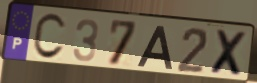2: (176, 26, 211, 76)
3: (72, 18, 100, 63)
7: (108, 18, 140, 68)
A: (135, 24, 174, 71)
C: (30, 12, 68, 62)
X: (208, 28, 250, 79)
